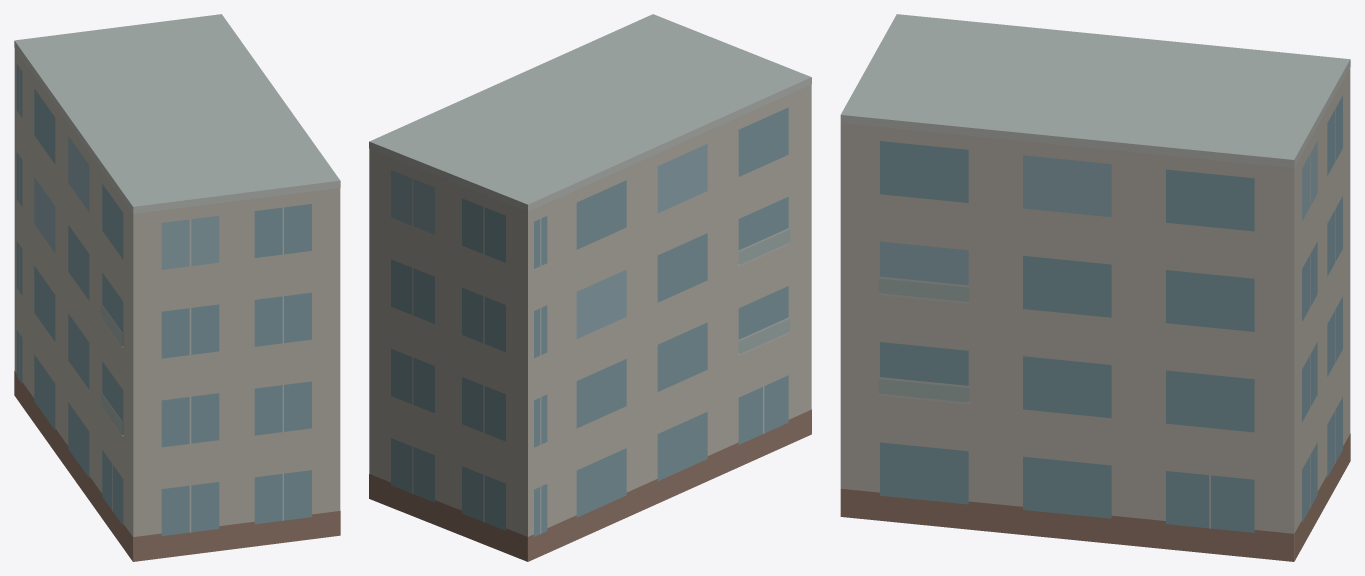
Rendered from residential-3c99eabc-9b98-4c52-88d0-f7c625b064a6.glb.
3 views of the same model, side by side, from view 1: azimuth 30°, elevation 25°; view 2: azimuth 150°, elevation 25°; view 3: azimuth 270°, elevation 25° (orthographic). The views are drawn at different scales.
Visible parts, largest first — view 1: residential-3c99eabc-9b98-4c52-88d0-f7c625b064a6.tmp; view 2: residential-3c99eabc-9b98-4c52-88d0-f7c625b064a6.tmp; view 3: residential-3c99eabc-9b98-4c52-88d0-f7c625b064a6.tmp.
Part boxes in pixels (bbox=[...]): residential-3c99eabc-9b98-4c52-88d0-f7c625b064a6.tmp: bbox=[14, 14, 340, 561]; residential-3c99eabc-9b98-4c52-88d0-f7c625b064a6.tmp: bbox=[369, 14, 811, 561]; residential-3c99eabc-9b98-4c52-88d0-f7c625b064a6.tmp: bbox=[840, 14, 1350, 561].
Size of the model in its own units: 9.51 by 12.2 by 14.04.
